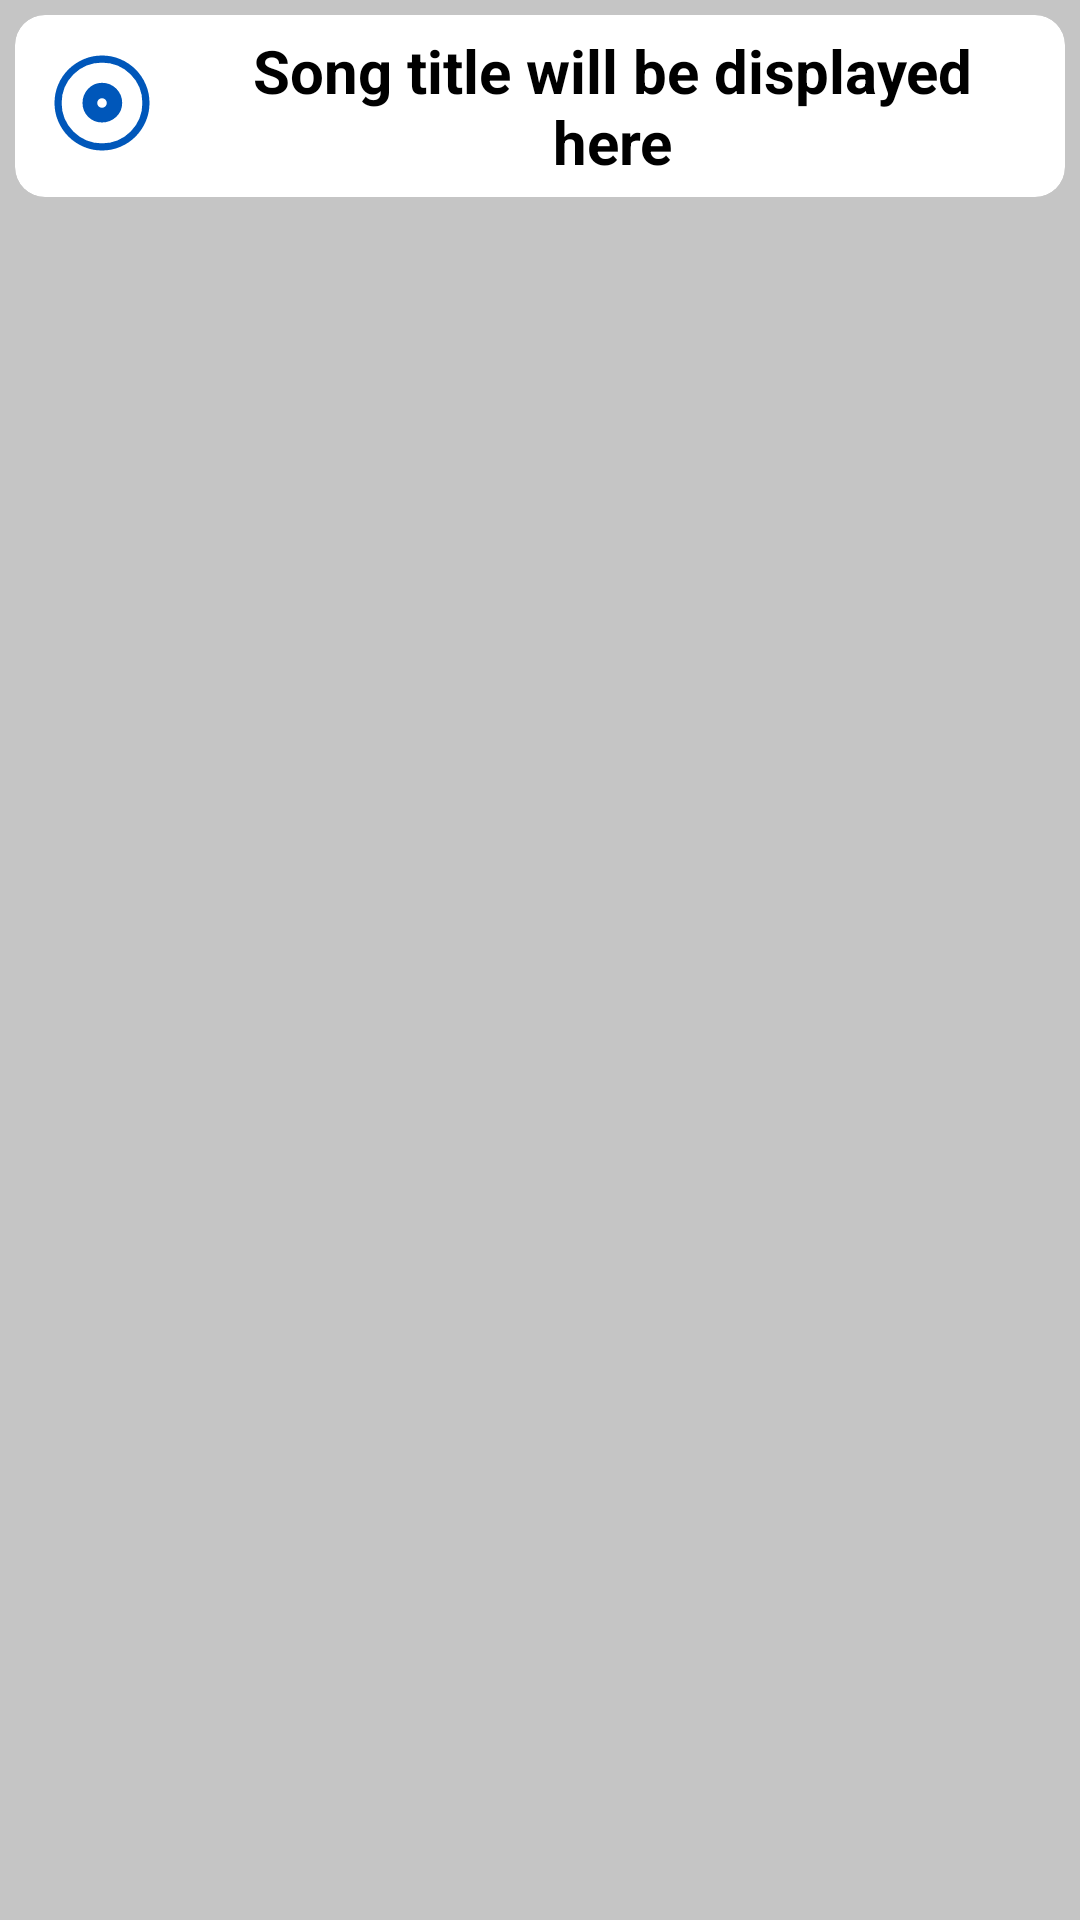

Named icons in this screenshot (1080*1920) and their centers, (x=x, y=y):
audio file: (x=102, y=103)
